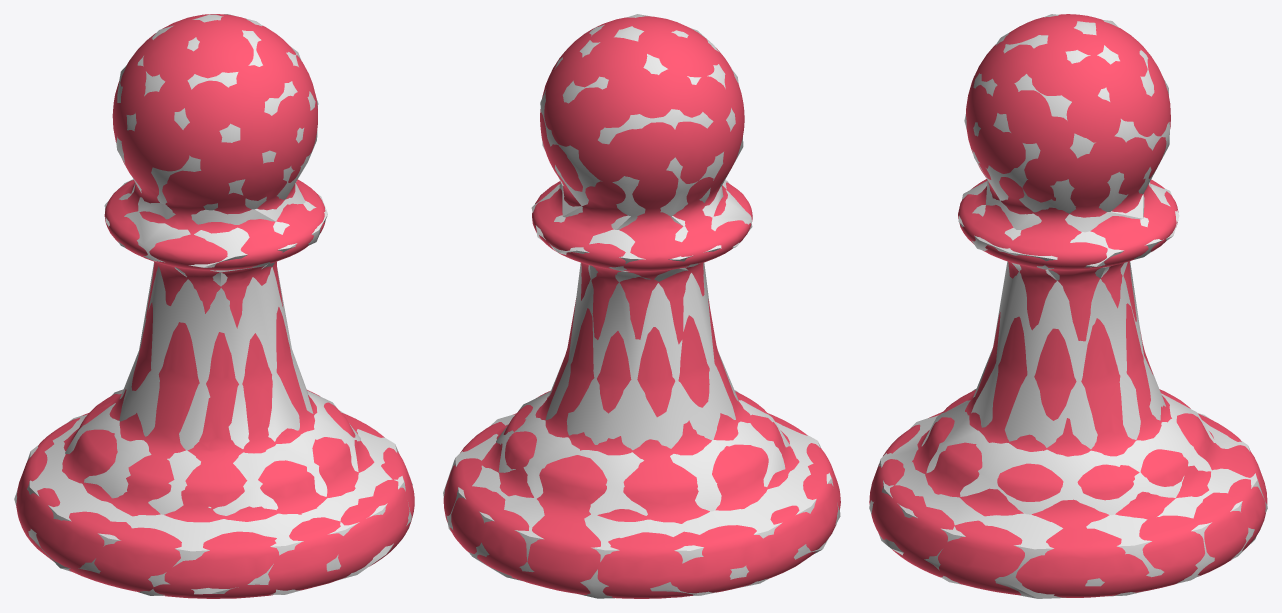
File: pawn.glb
3 renders of one model, left to right at view 1: azimuth 30°, elevation 25°; view 2: azimuth 150°, elevation 25°; view 3: azimuth 270°, elevation 25°, orthographic.
Parts seen in each view (by area): view 1: pawn, shadow; view 2: pawn, shadow; view 3: pawn, shadow.
Boxes of the visible parts, left/top/right/bottom form: pawn: left=16, top=14, right=414, bottom=598; shadow: left=14, top=14, right=412, bottom=595; pawn: left=443, top=16, right=840, bottom=598; shadow: left=443, top=14, right=840, bottom=598; pawn: left=869, top=14, right=1267, bottom=597; shadow: left=869, top=14, right=1267, bottom=598.
Bounding box in the file's own units: 0.7372 × 1.01 × 0.7362.
